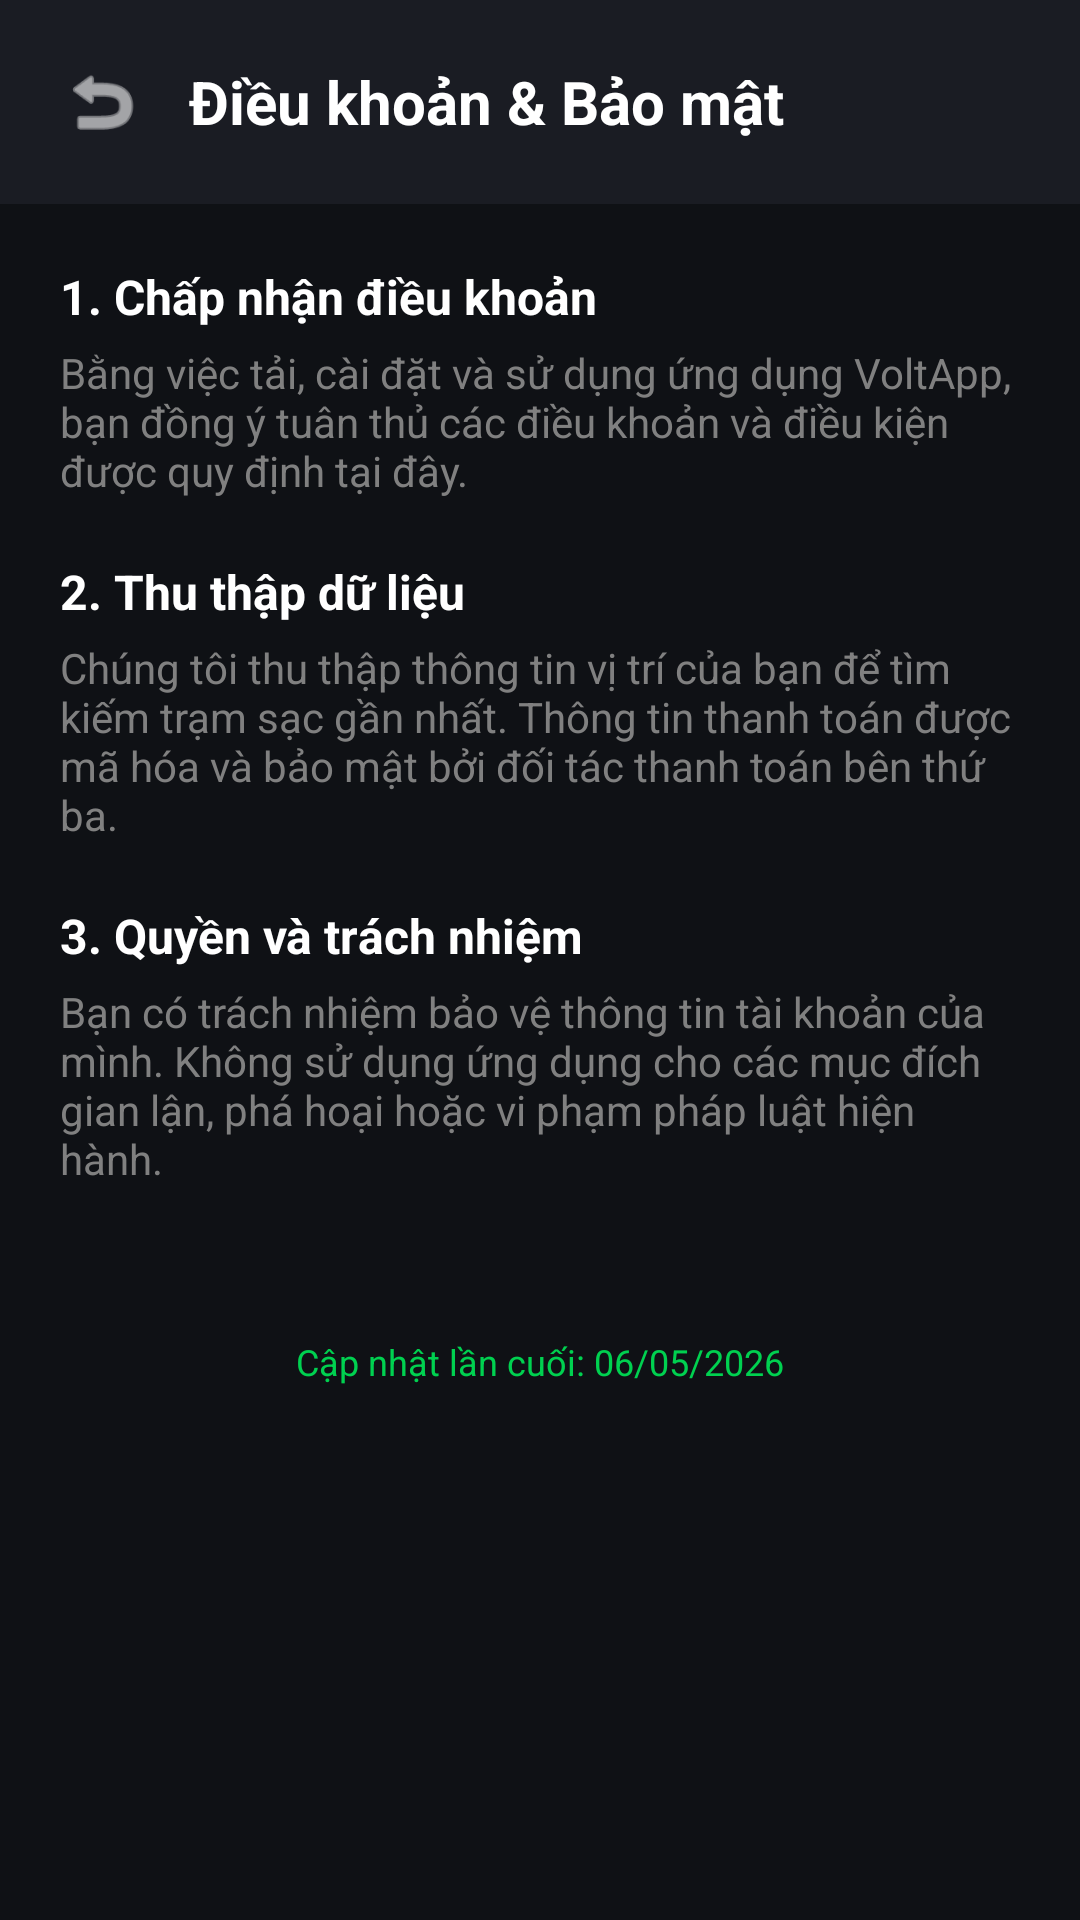

Locate icon controls on the screen. Image size 1080×1920, boxes as detection(x1, y1, x2, y2).
revert: detection(73, 75, 133, 130)
